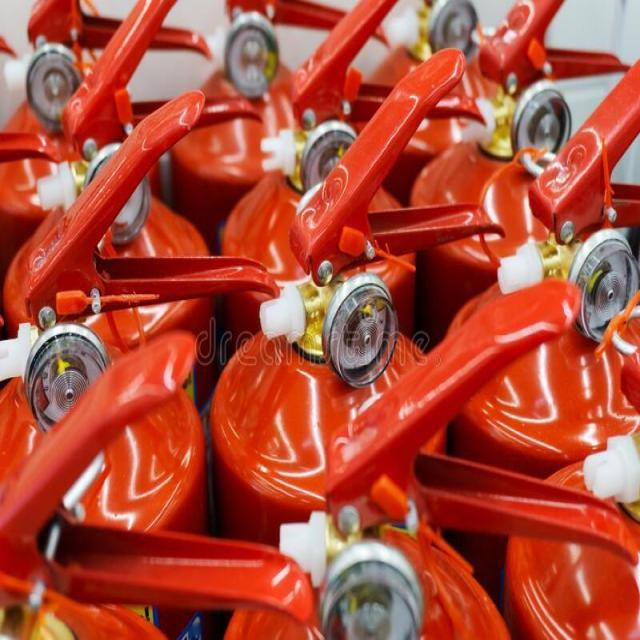fire_extinguisher: (197, 43, 507, 639), (0, 89, 278, 639), (221, 276, 636, 639), (408, 51, 638, 638)
